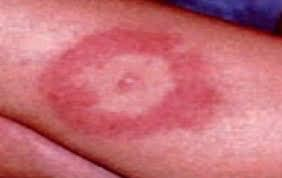Tick: (75, 45, 178, 121)
